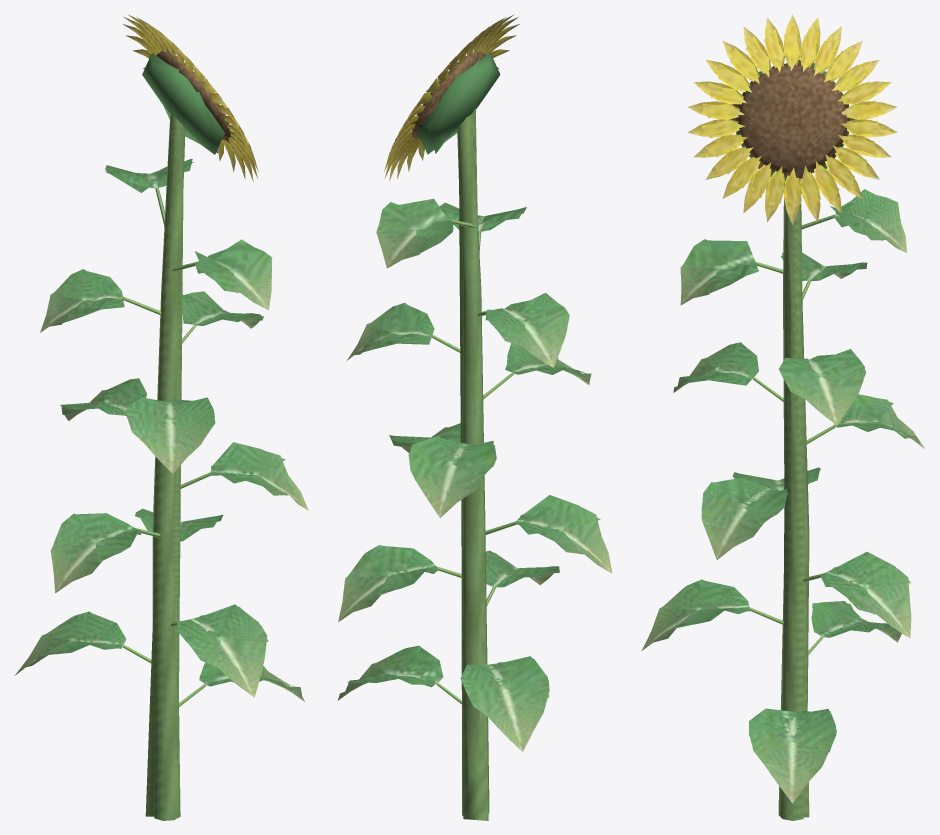
The model's file is girasol.glb.
3 renders of one model, left to right at view 1: azimuth 30°, elevation 25°; view 2: azimuth 150°, elevation 25°; view 3: azimuth 270°, elevation 25°, orthographic.
Parts seen in each view (by area): view 1: girasol, girasol_lp; view 2: girasol, girasol_lp; view 3: girasol, girasol_lp.
Boxes of the visible parts, left/top/right/bottom form: girasol: left=14, top=14, right=308, bottom=820; girasol_lp: left=35, top=31, right=294, bottom=816; girasol: left=337, top=14, right=612, bottom=815; girasol_lp: left=347, top=23, right=600, bottom=820; girasol: left=641, top=14, right=924, bottom=820; girasol_lp: left=662, top=28, right=912, bottom=817.
Size of the model in its own units: 0.683 by 1.98 by 0.644.
Materials: 2 (2 with a texture image).
